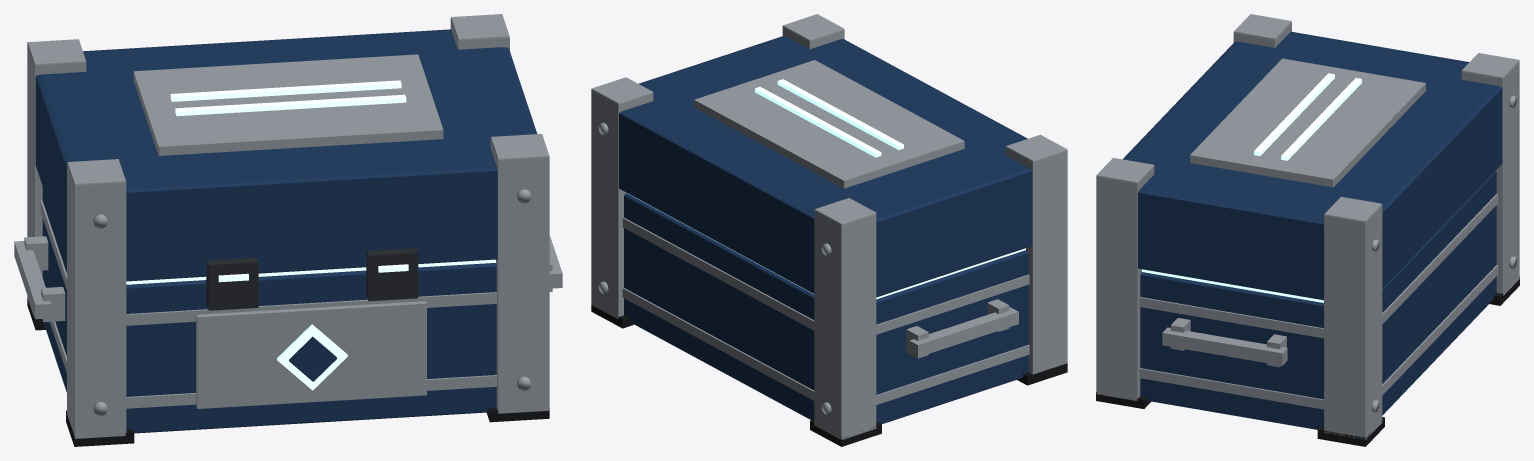
Rendered from cache_1.fbx.
3 renders of one model, left to right at view 1: azimuth 30°, elevation 25°; view 2: azimuth 150°, elevation 25°; view 3: azimuth 270°, elevation 25°, orthographic. The views are drawn at different scales.
Parts seen in each view (by area): view 1: Cube.030, Cube.028, Cube.031, Cube.050, Cube.034, Cube.036, Cube.035, Cube.039, Cube.055, Cube.053, Cube.038, Cube.033 (+10 smaller); view 2: Cube.030, Cube.028, Cube.031, Cube.035, Cube.034, Cube.037, Cube.039, Cube.038, Cube.046, Cube.036, Cube.033, Cube.032 (+3 smaller); view 3: Cube.030, Cube.028, Cube.031, Cube.037, Cube.036, Cube.035, Cube.038, Cube.039, Cube.049, Cube.034, Cube.032, Cube.033 (+3 smaller).
Boxes of the visible parts, x1,y1,x2,y2 form: Cube.030: (35, 29, 537, 281); Cube.028: (42, 187, 496, 433); Cube.031: (133, 54, 443, 155); Cube.050: (196, 301, 426, 408); Cube.034: (67, 159, 126, 438); Cube.036: (490, 134, 549, 413); Cube.035: (27, 39, 86, 317); Cube.039: (40, 200, 496, 325); Cube.055: (366, 248, 418, 301); Cube.053: (206, 257, 258, 310); Cube.038: (50, 321, 496, 408); Cube.033: (170, 80, 401, 101); Cube.030: (619, 36, 1032, 297); Cube.028: (624, 193, 1028, 424); Cube.031: (694, 60, 964, 188); Cube.035: (814, 198, 876, 439); Cube.034: (1005, 134, 1067, 374); Cube.037: (591, 77, 653, 318); Cube.039: (622, 217, 1029, 334); Cube.038: (622, 287, 1029, 404); Cube.046: (909, 307, 1018, 357); Cube.036: (782, 14, 844, 49); Cube.033: (755, 86, 881, 157); Cube.032: (777, 79, 903, 149); Cube.030: (1123, 31, 1502, 300); Cube.028: (1140, 171, 1496, 429); Cube.031: (1190, 58, 1425, 187); Cube.037: (1324, 196, 1382, 439); Cube.036: (1096, 157, 1154, 400); Cube.035: (1461, 53, 1519, 295); Cube.038: (1139, 265, 1498, 409); Cube.039: (1139, 193, 1498, 338); Cube.049: (1162, 327, 1287, 365); Cube.034: (1233, 14, 1291, 47); Cube.032: (1254, 73, 1334, 155); Cube.033: (1281, 78, 1361, 160).
Bounding box in the file's own units: 56.71 × 29.1 × 48.97.
